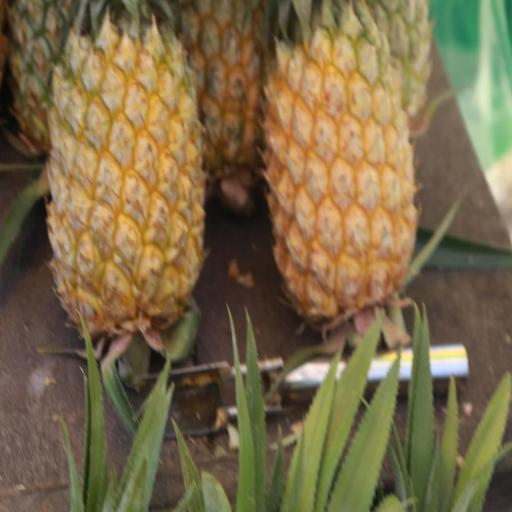Pineapple - v8 v1: (41, 0, 211, 383), (259, 0, 423, 340)
